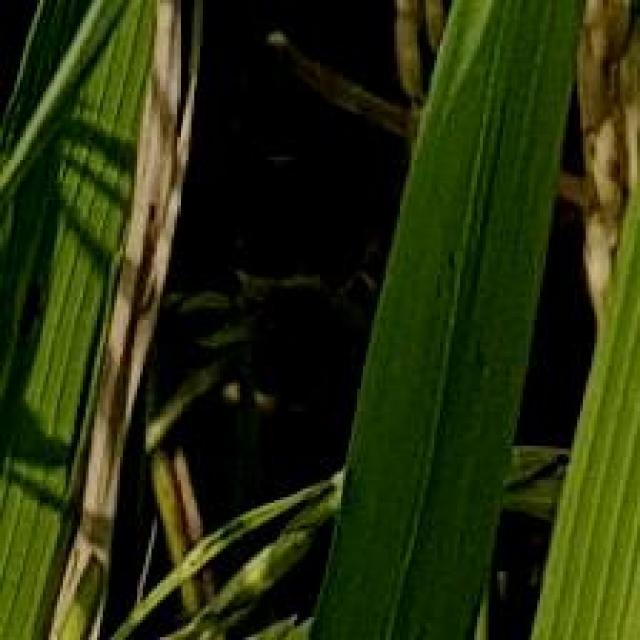Rice_Bacterial_Blight: (100, 6, 200, 452)
